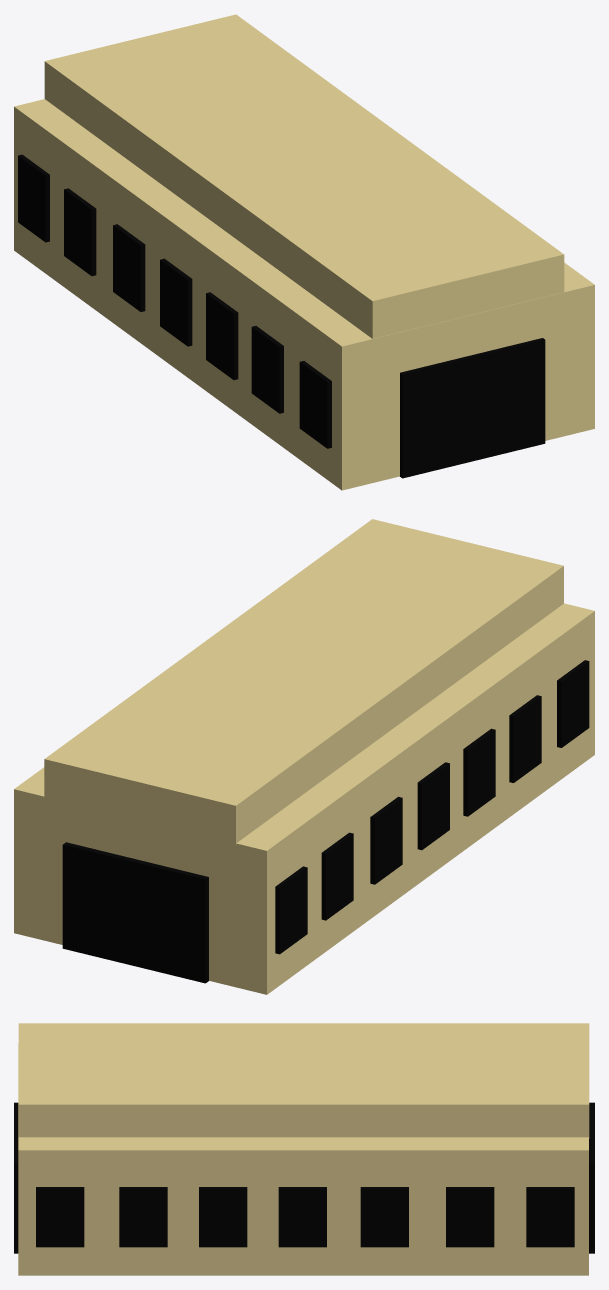
The model's file is newtent.fbx.
3 views of the same model, one above another, from view 1: azimuth 30°, elevation 25°; view 2: azimuth 150°, elevation 25°; view 3: azimuth 270°, elevation 25° (orthographic). The views are drawn at different scales.
Visible parts, largest first — view 1: Cube.014; view 2: Cube.014; view 3: Cube.014.
Part boxes in pixels (box(x1,y1,x2,y2)): Cube.014: box(14, 14, 594, 490); Cube.014: box(14, 519, 594, 994); Cube.014: box(14, 1023, 594, 1275).
Size of the model in its own units: 6018 by 3978 by 13234.
